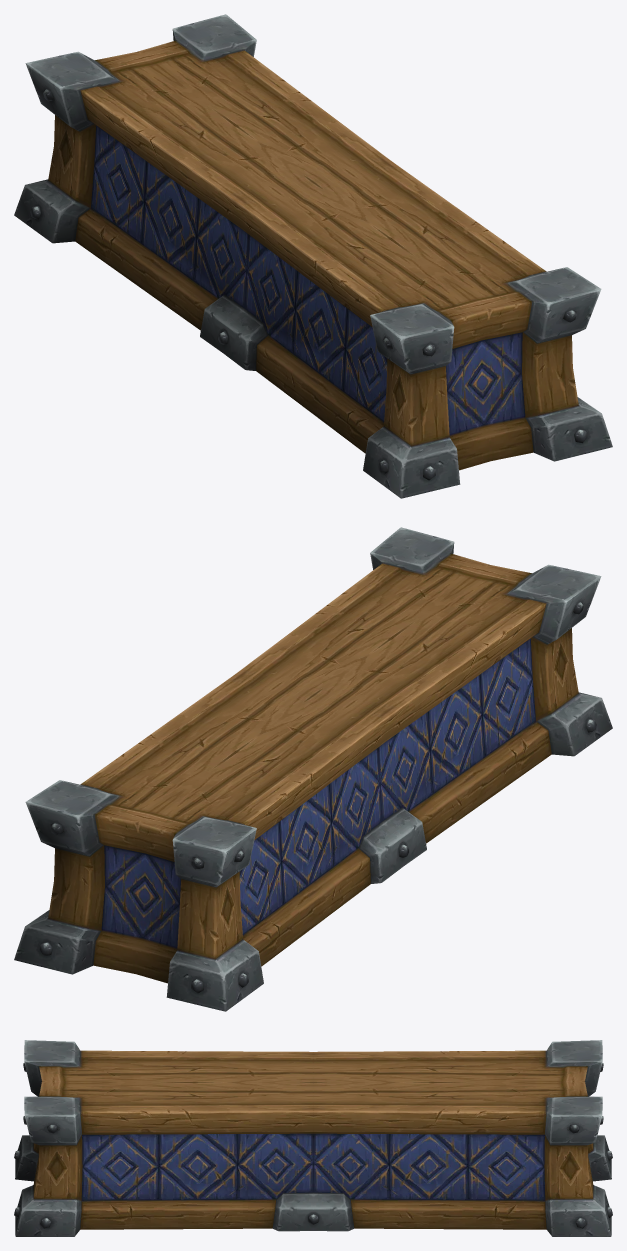
3 views of the same model, one above another, from view 1: azimuth 30°, elevation 25°; view 2: azimuth 150°, elevation 25°; view 3: azimuth 270°, elevation 25° (orthographic). The views are drawn at different scales.
Size of the model in its own units: 1.88 by 1.3 by 5.89.
Materials: 1 (1 with a texture image).
